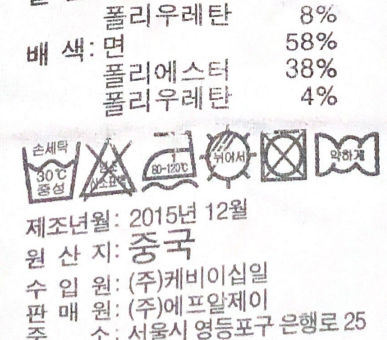KR_flat_dry_in_shade: (199, 127, 256, 184)
KR_gentle_wring: (312, 127, 383, 180)
KR_hand_wash_30_neutral: (18, 140, 80, 203)
KR_iron_low_temp_with_cloth: (139, 130, 199, 193)
KR_no_bleach: (80, 141, 138, 199)
KR_no_tumble_dry: (256, 128, 309, 185)
